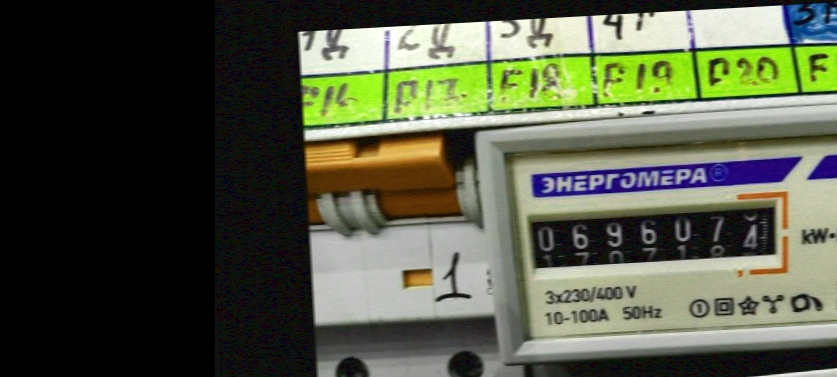0: (536, 224, 557, 254), (672, 215, 693, 243)
4: (741, 224, 760, 253)
6: (639, 217, 659, 246), (570, 223, 590, 251)
7: (707, 214, 728, 245)
9: (604, 221, 624, 250)
screen: (514, 188, 797, 290)
